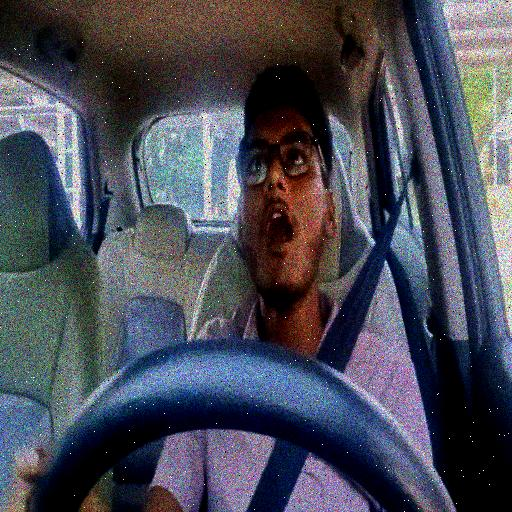yawns: (230, 63, 336, 311)
